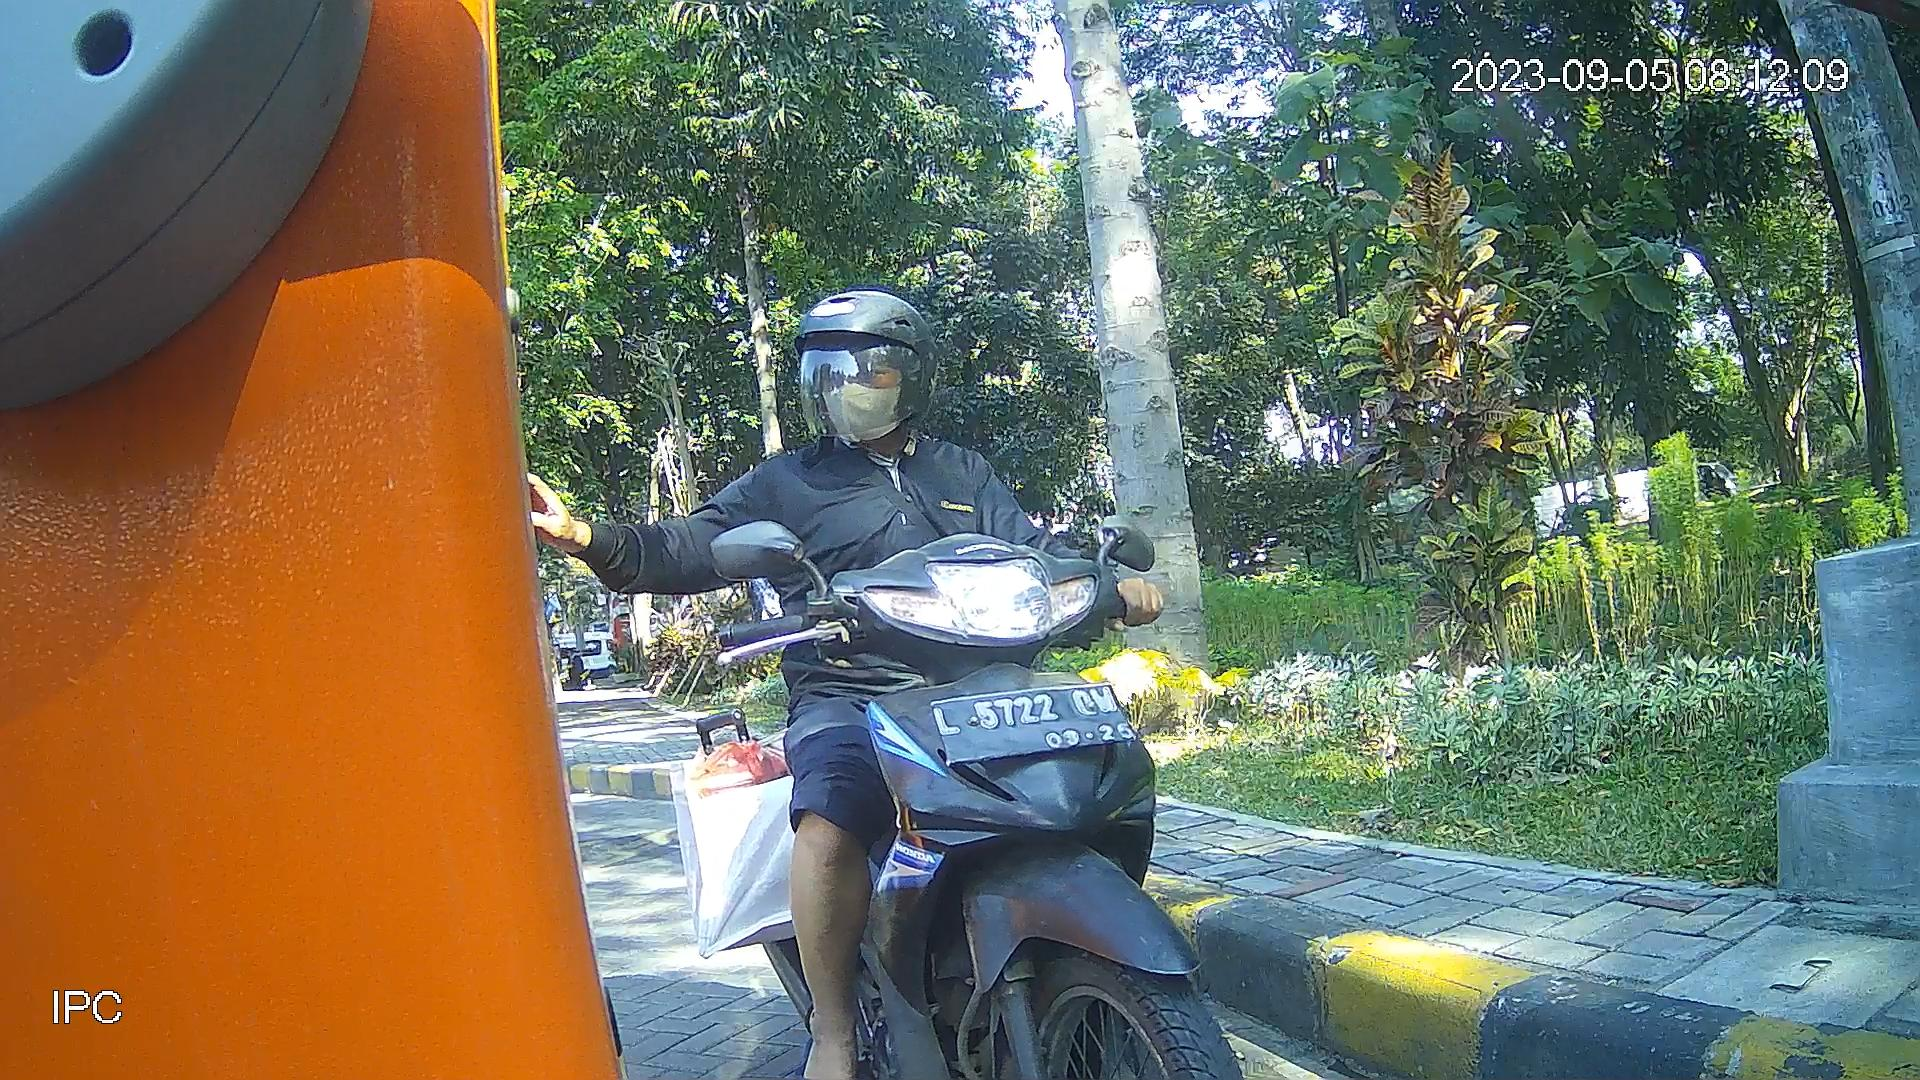plat: (923, 680, 1142, 767)
